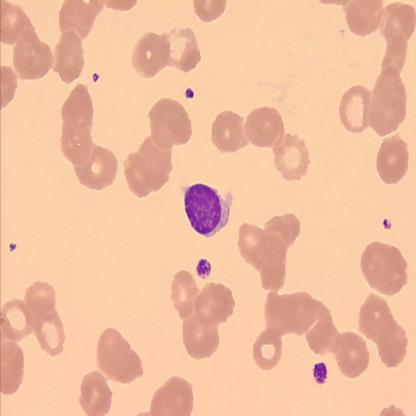Lymphocyte: (181, 183, 235, 239)
